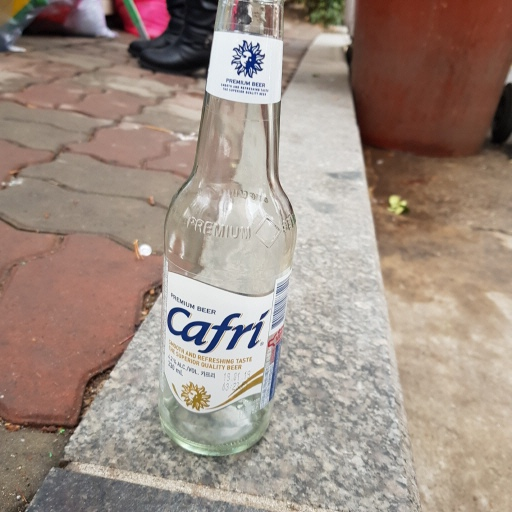Glass_1: (163, 1, 297, 463)
